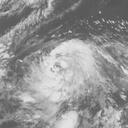cyclone: (22, 38, 106, 111)
